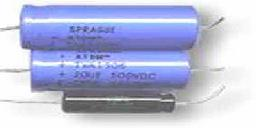Electrolytic-Capacitor: (11, 2, 227, 52), (19, 46, 215, 89), (23, 89, 231, 117)
